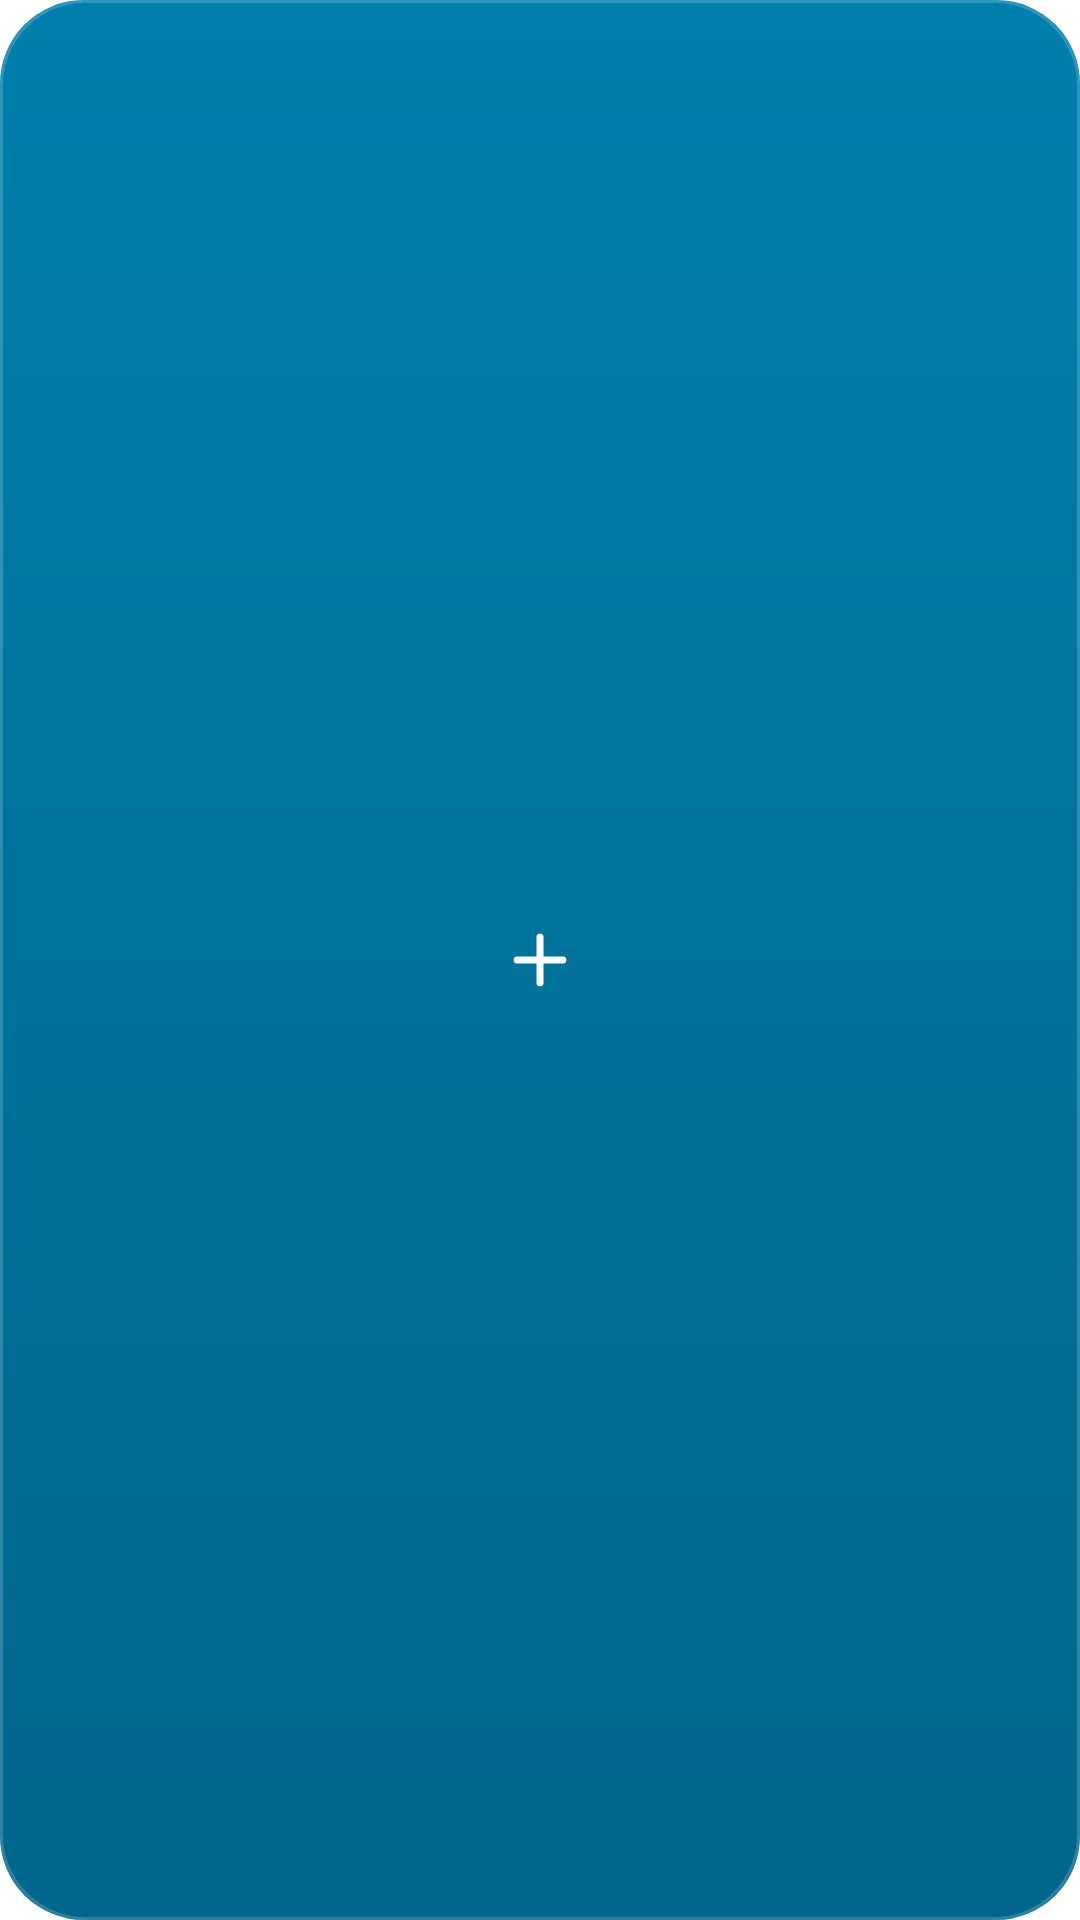

Icon bounding boxes for this 1080px x 1920px phone screenshot, format (x1, y1, x2, y2):
nex widget plus: (513, 933, 567, 987)
